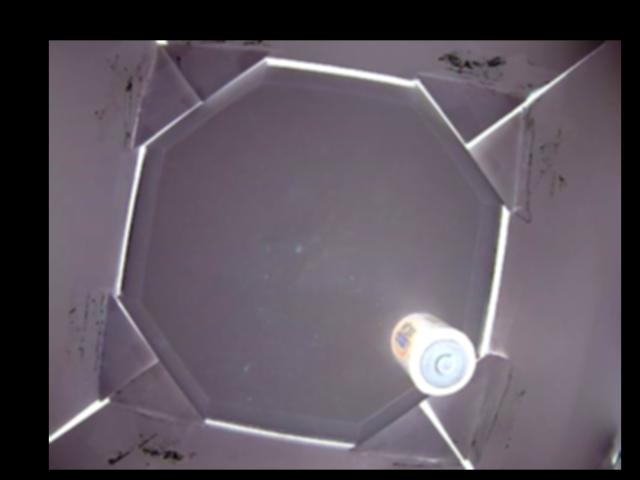Battery: (391, 314, 478, 396)
